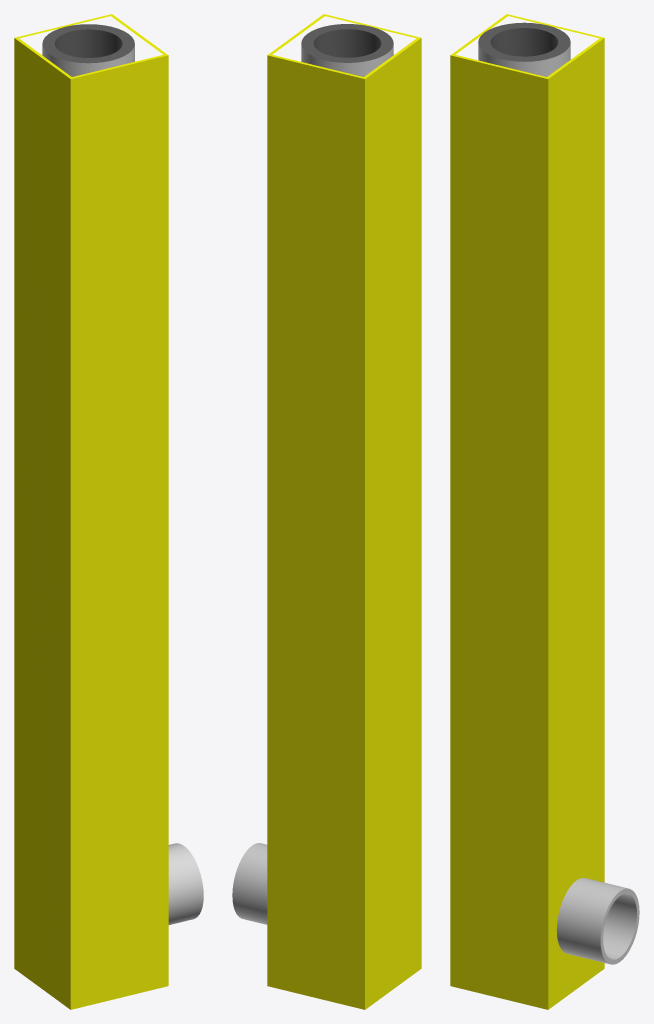
Rendered from postRohr.glb.
3 renders of one model, left to right at view 1: azimuth 30°, elevation 25°; view 2: azimuth 150°, elevation 25°; view 3: azimuth 330°, elevation 25°, orthographic.
Visible parts, largest first — view 1: Pfosten_mit_deckel_1_1, OD_76_mm_ID_66_mm; view 2: Pfosten_mit_deckel_1_1, OD_76_mm_ID_66_mm; view 3: Pfosten_mit_deckel_1_1, OD_76_mm_ID_66_mm.
Boxes of the visible parts, x1,y1,x2,y2 form: Pfosten_mit_deckel_1_1: (14,14,168,1009); OD_76_mm_ID_66_mm: (42,24,203,924); Pfosten_mit_deckel_1_1: (267,14,421,1009); OD_76_mm_ID_66_mm: (232,24,393,924); Pfosten_mit_deckel_1_1: (450,14,604,1009); OD_76_mm_ID_66_mm: (478,22,639,964).
Size of the model in its own units: 0.1592 by 1 by 0.11.
Materials: 3 (1 with a texture image).
